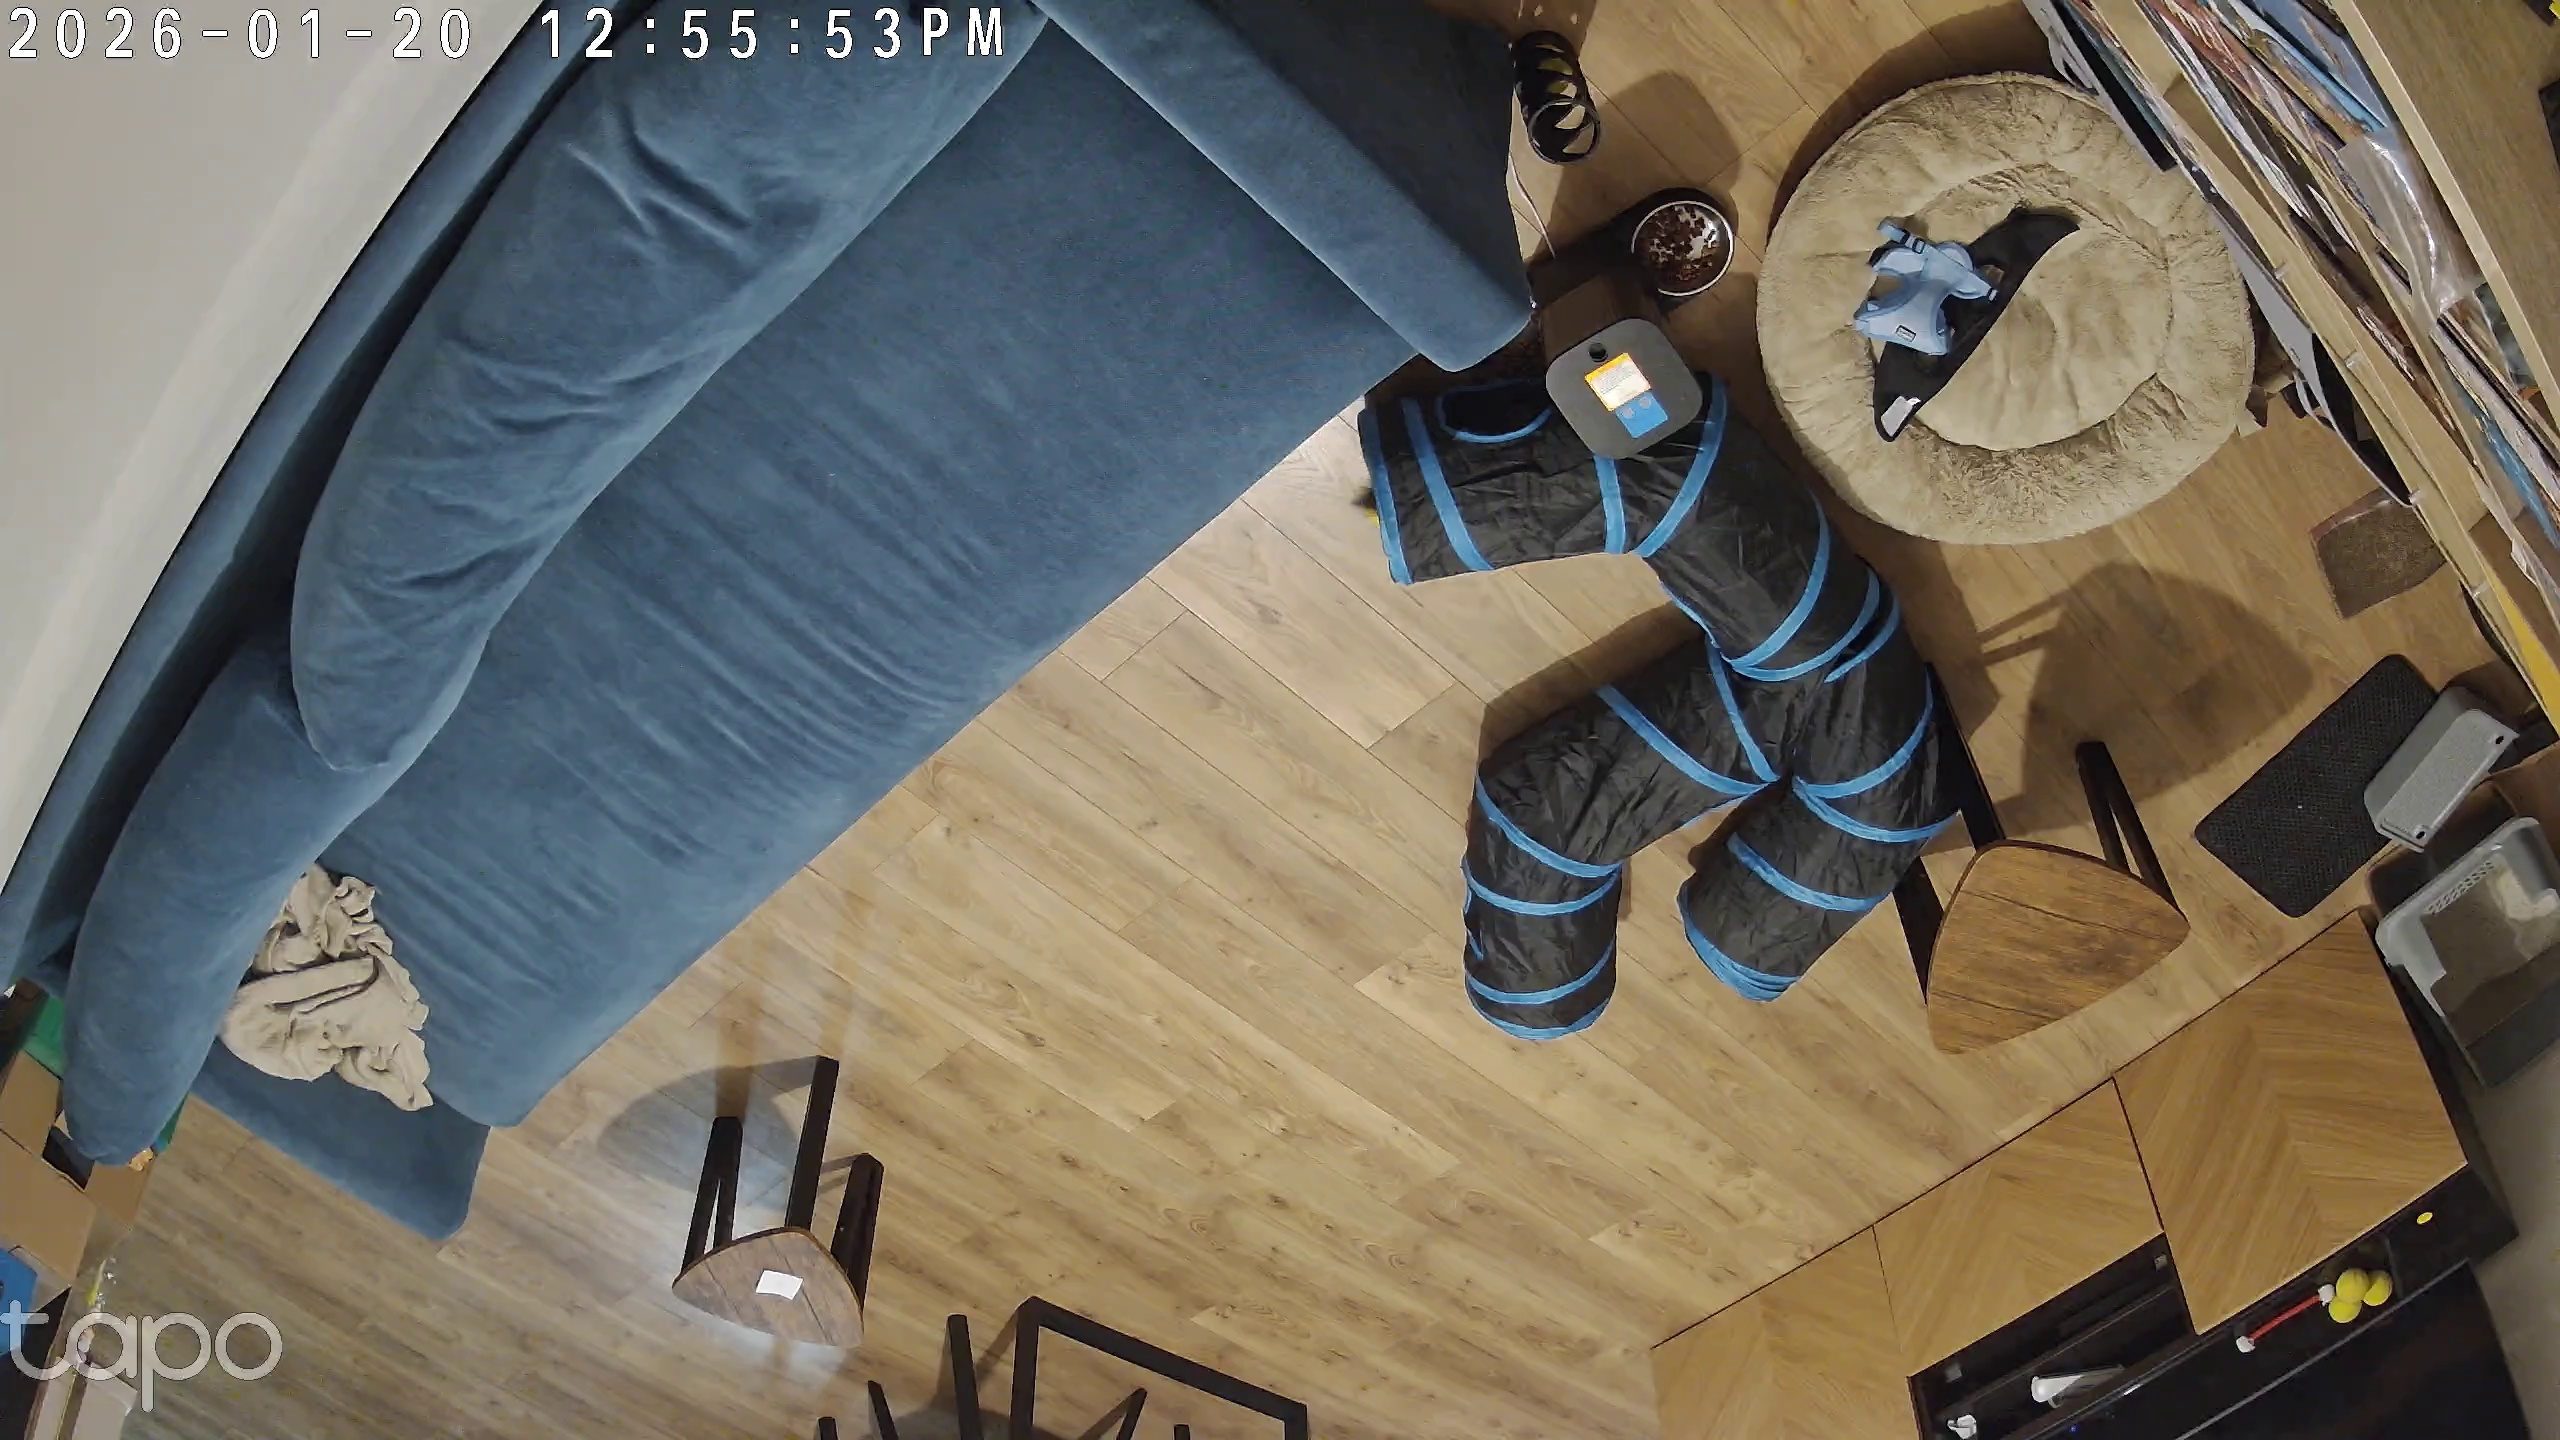Nala: (1280, 452, 1426, 540)
